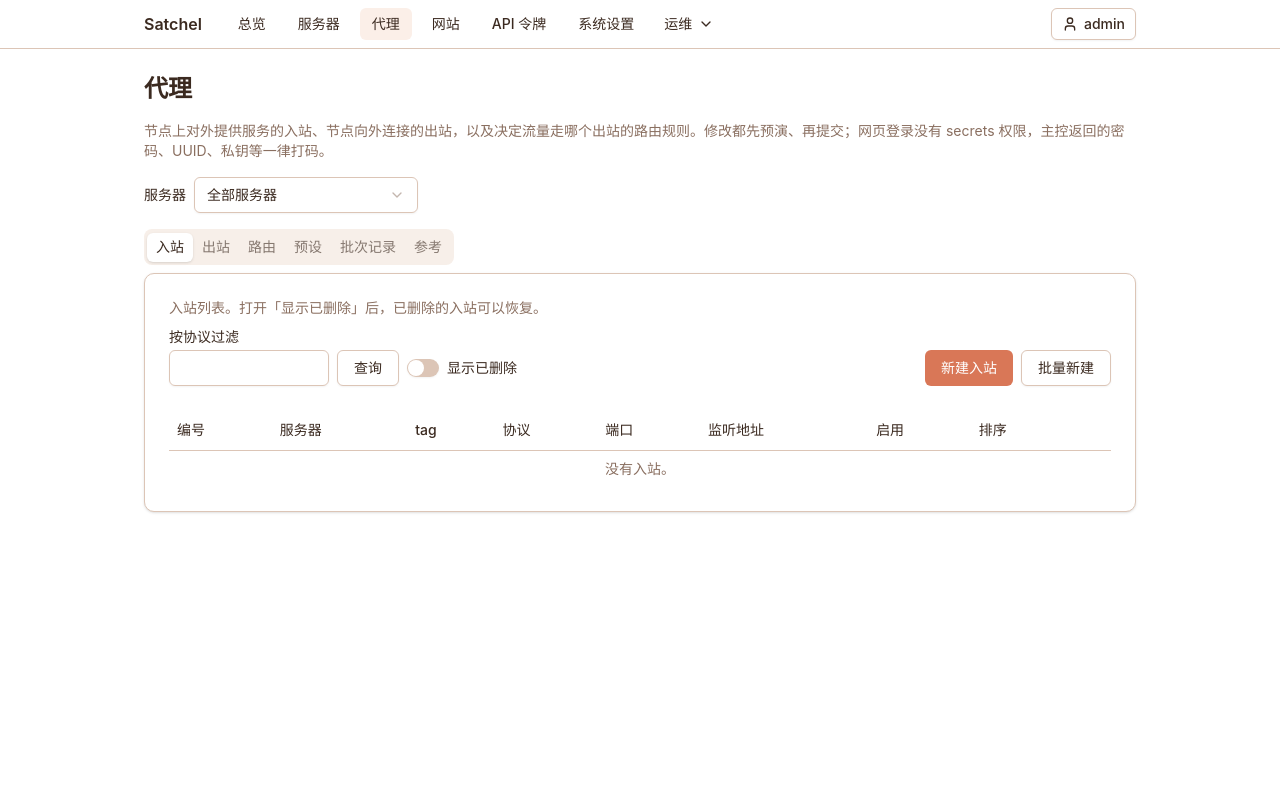
Test case: 代理页：路由 › 编辑时当前出站不在这台服务器上：选项里写明这台服务器上没有
The width and height of the screenshot is (1280, 800).
What coordinates should you click on to do the following:
click the tab "路由"
I would click on:
 (262, 247)
Its box is [239,232,285,262].
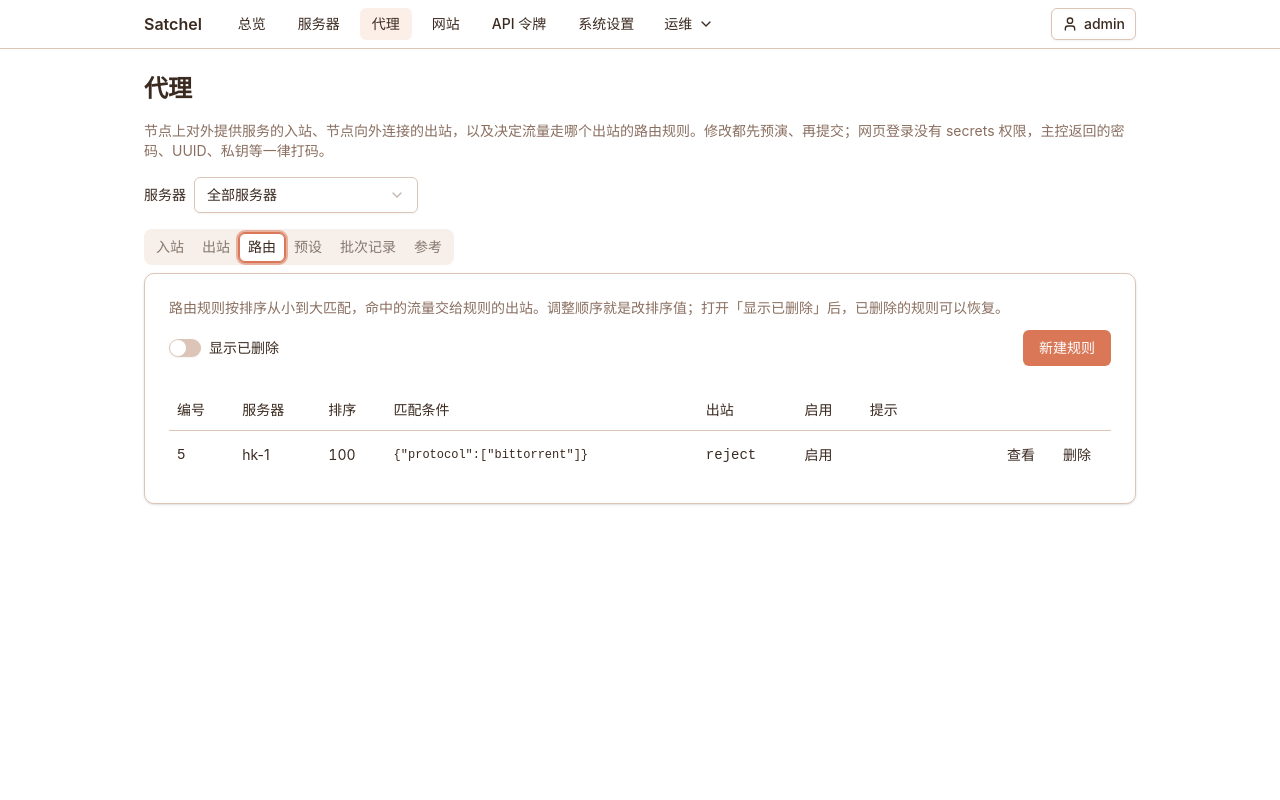
What coordinates should you click on to do the following:
click the button "查看"
I would click on:
 (1021, 454)
Its box is [995,438,1047,470].
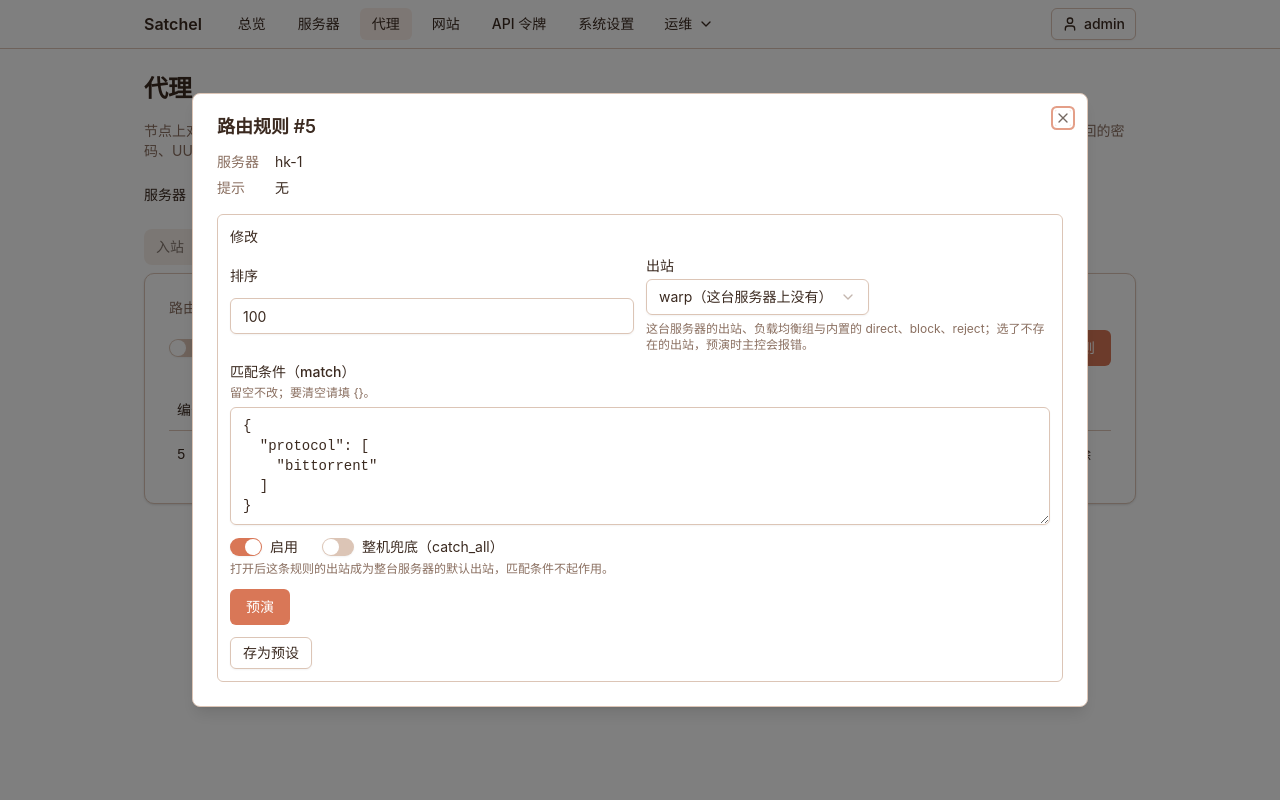
Expected: the element with test id "routing-detail" is shown, [217,152,1063,682]
What coordinates should you click on to do the following:
click the dropdown named "出站"
I would click on:
 (758, 297)
Its box is [646,279,869,315].
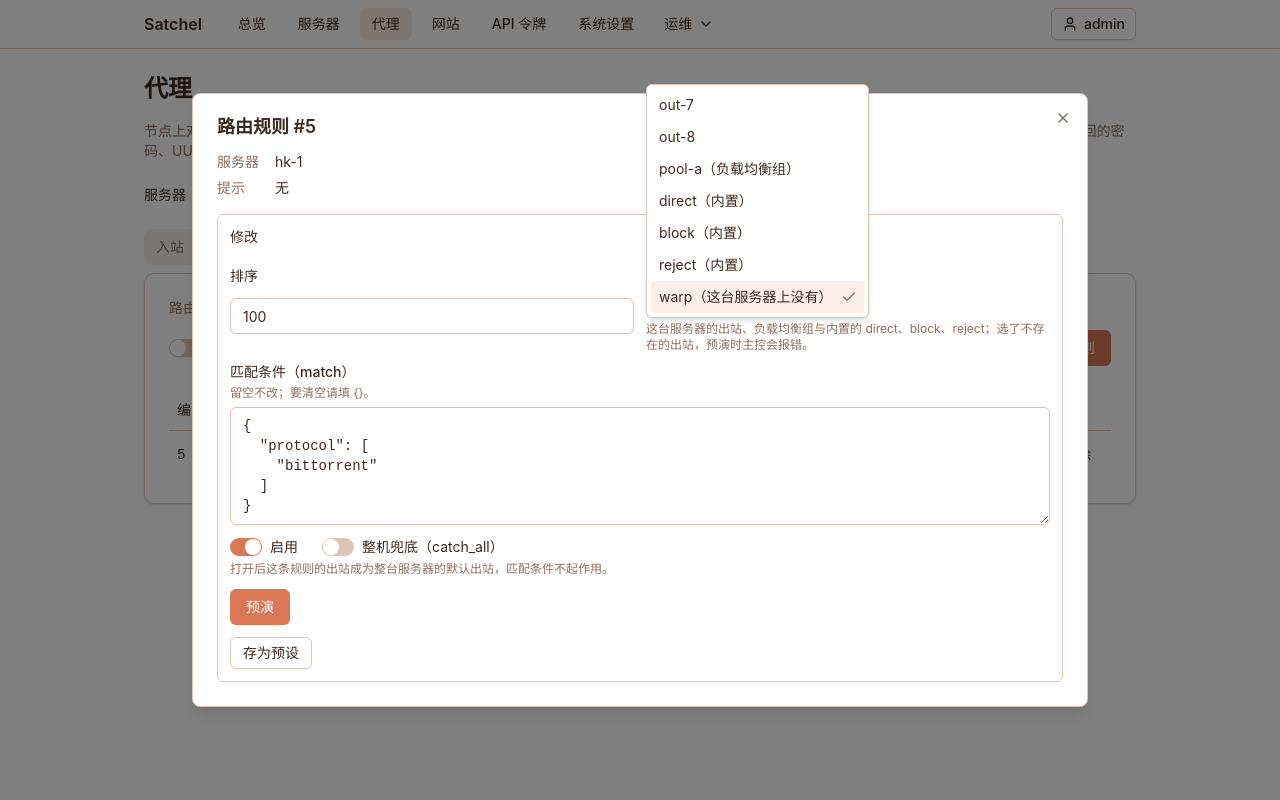
Expected: the option "warp（这台服务器上没有）" is shown, [651,281,864,313]
Expected: the option "out-7" is shown, [659,96,694,113]
